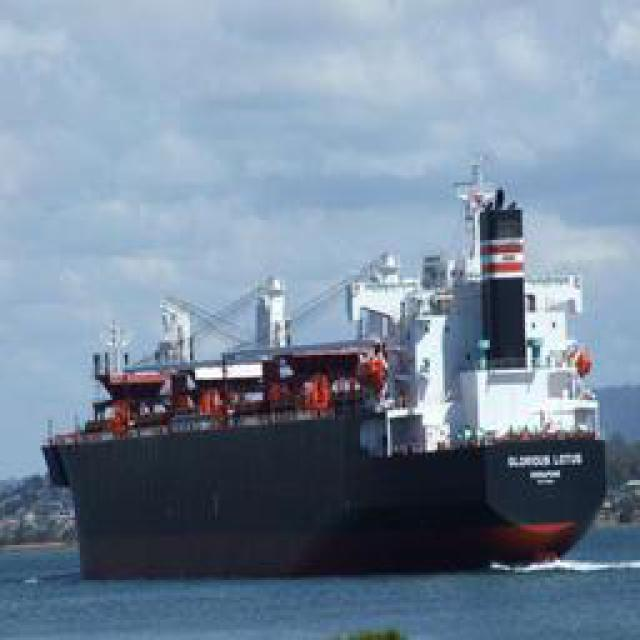Ship: (45, 101, 618, 579)
